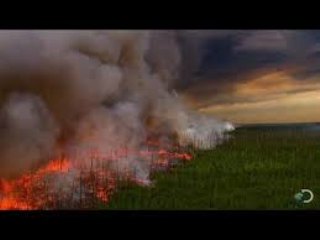fire: (5, 151, 159, 204)
smoke: (88, 47, 231, 152), (17, 72, 86, 140)
